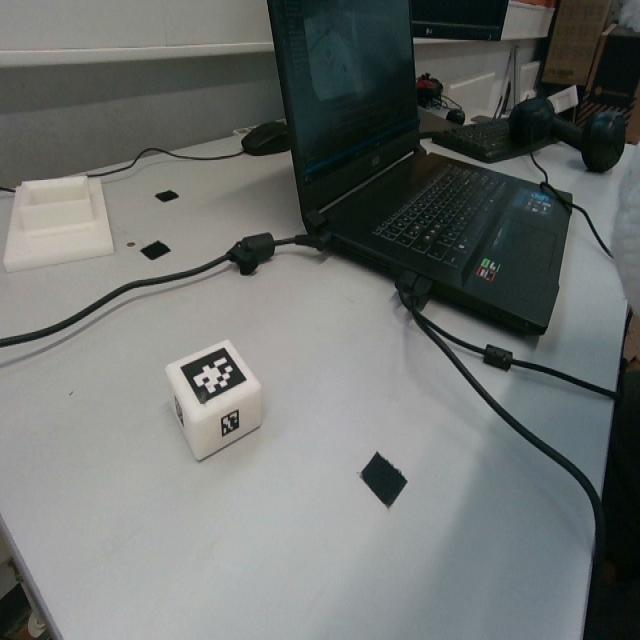Cube: (163, 338, 262, 462)
